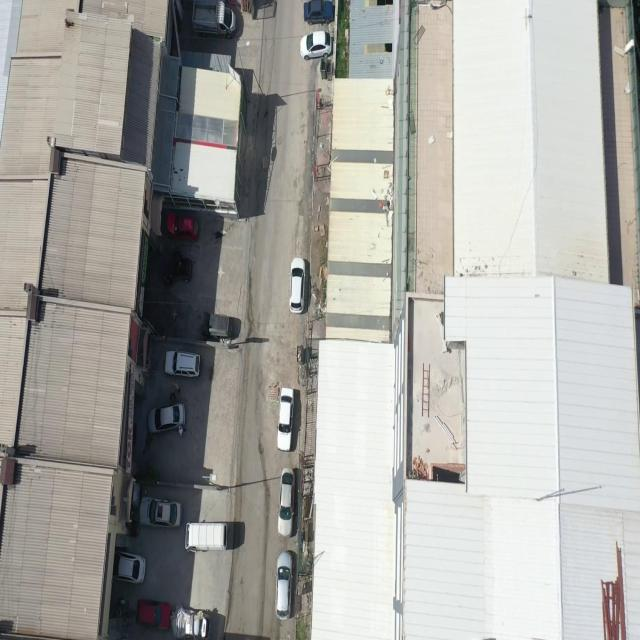p3rson: (167, 274, 174, 287), (179, 426, 186, 436), (170, 392, 176, 403), (174, 383, 180, 394), (116, 597, 125, 604), (120, 600, 130, 606)
